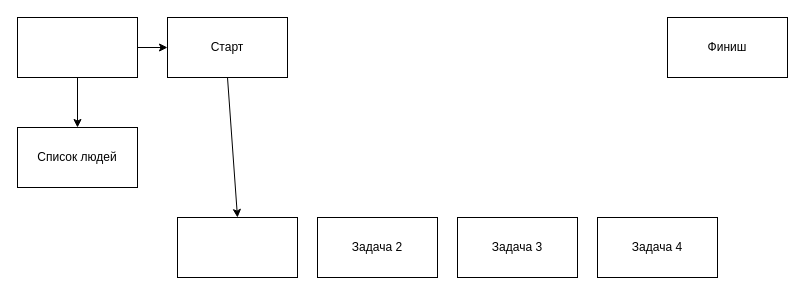
Image size: 805x295. Some labels were removed from this diagram. The shapes that lost their labels are listed below. From the top down, each one's box as (x1, y1, x2, y2) in pixels, then its label:
(16, 16, 138, 78): Вход
(176, 216, 298, 278): Задача 1
